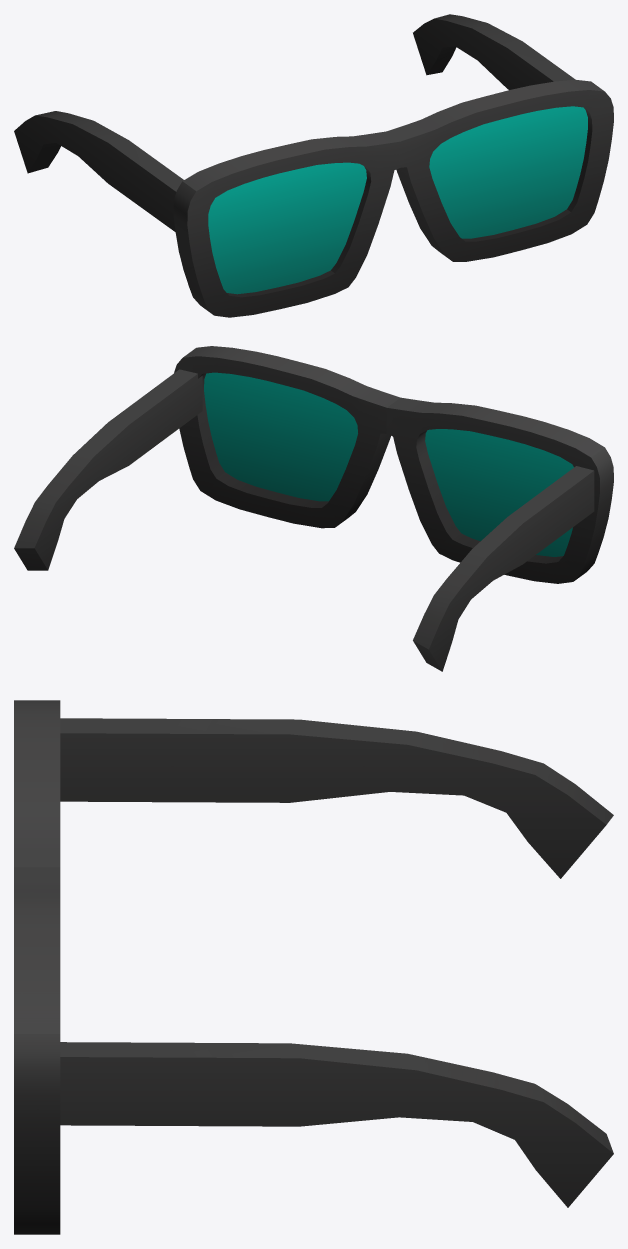
File: Capsule_Head_Prop_Sunglass_01.fbx
The picture shows the model from 3 angles, top to bottom: view 1: azimuth 30°, elevation 25°; view 2: azimuth 150°, elevation 25°; view 3: azimuth 270°, elevation 25°; orthographic projection. The views are drawn at different scales.
Visible parts, largest first — view 1: Capsule_Head_Prop_Sunglass_01; view 2: Capsule_Head_Prop_Sunglass_01; view 3: Capsule_Head_Prop_Sunglass_01.
Part boxes in pixels (x1=…): Capsule_Head_Prop_Sunglass_01: x1=14, y1=14, x2=613, y2=317; Capsule_Head_Prop_Sunglass_01: x1=14, y1=346, x2=613, y2=671; Capsule_Head_Prop_Sunglass_01: x1=14, y1=700, x2=613, y2=1234.
Bounding box in the file's own units: 108 × 36.11 × 78.27.
